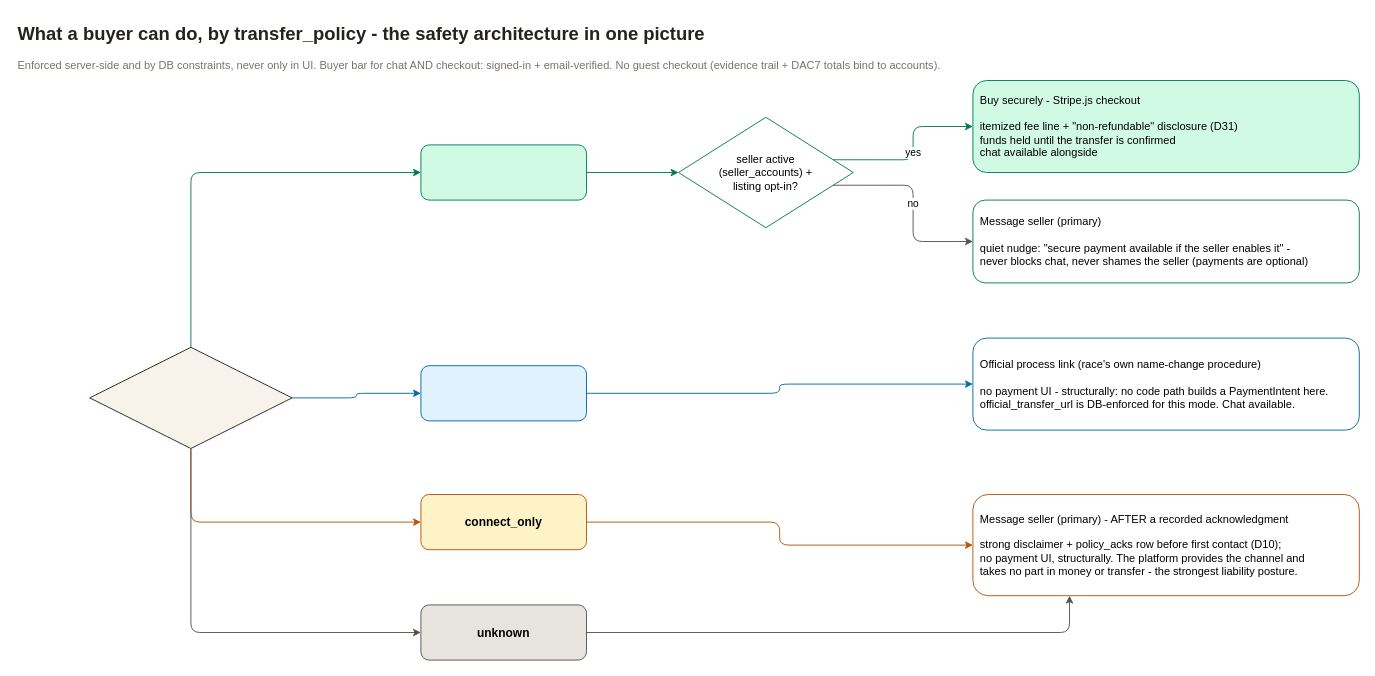
Image size: 1375x676. Some labels were removed from this diagram. The box of each missing label's shape, as (x1, y1, x2, y2) in pixels:
official_only: (420, 365, 586, 421)
platform_sale: (420, 144, 586, 200)
race.transfer_policy: (89, 346, 292, 448)
